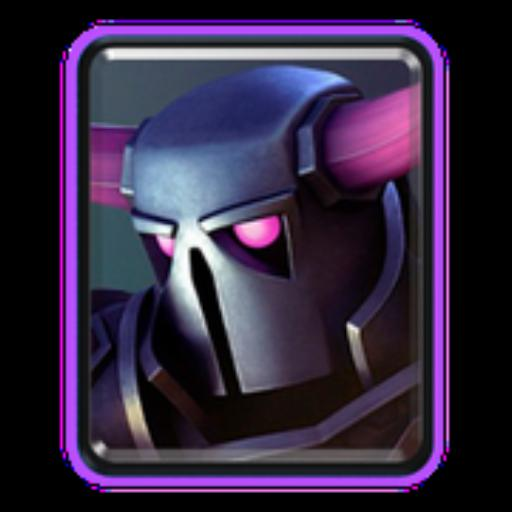pekka: (77, 54, 427, 472)
